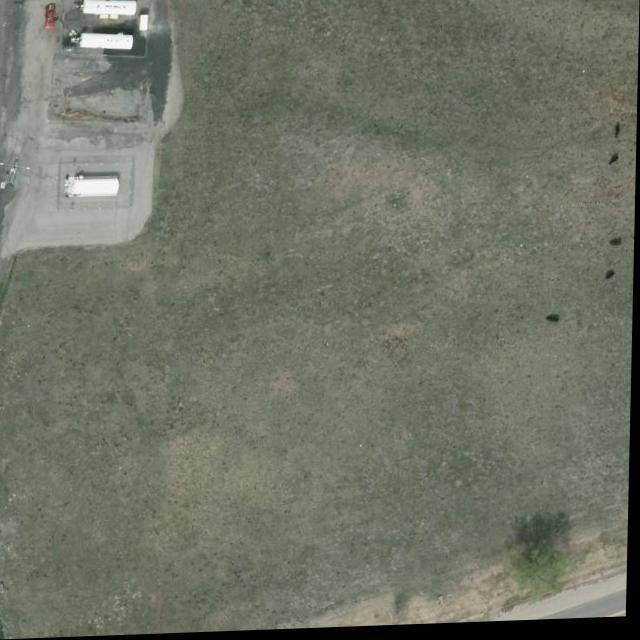vehicle: (44, 4, 57, 31)
